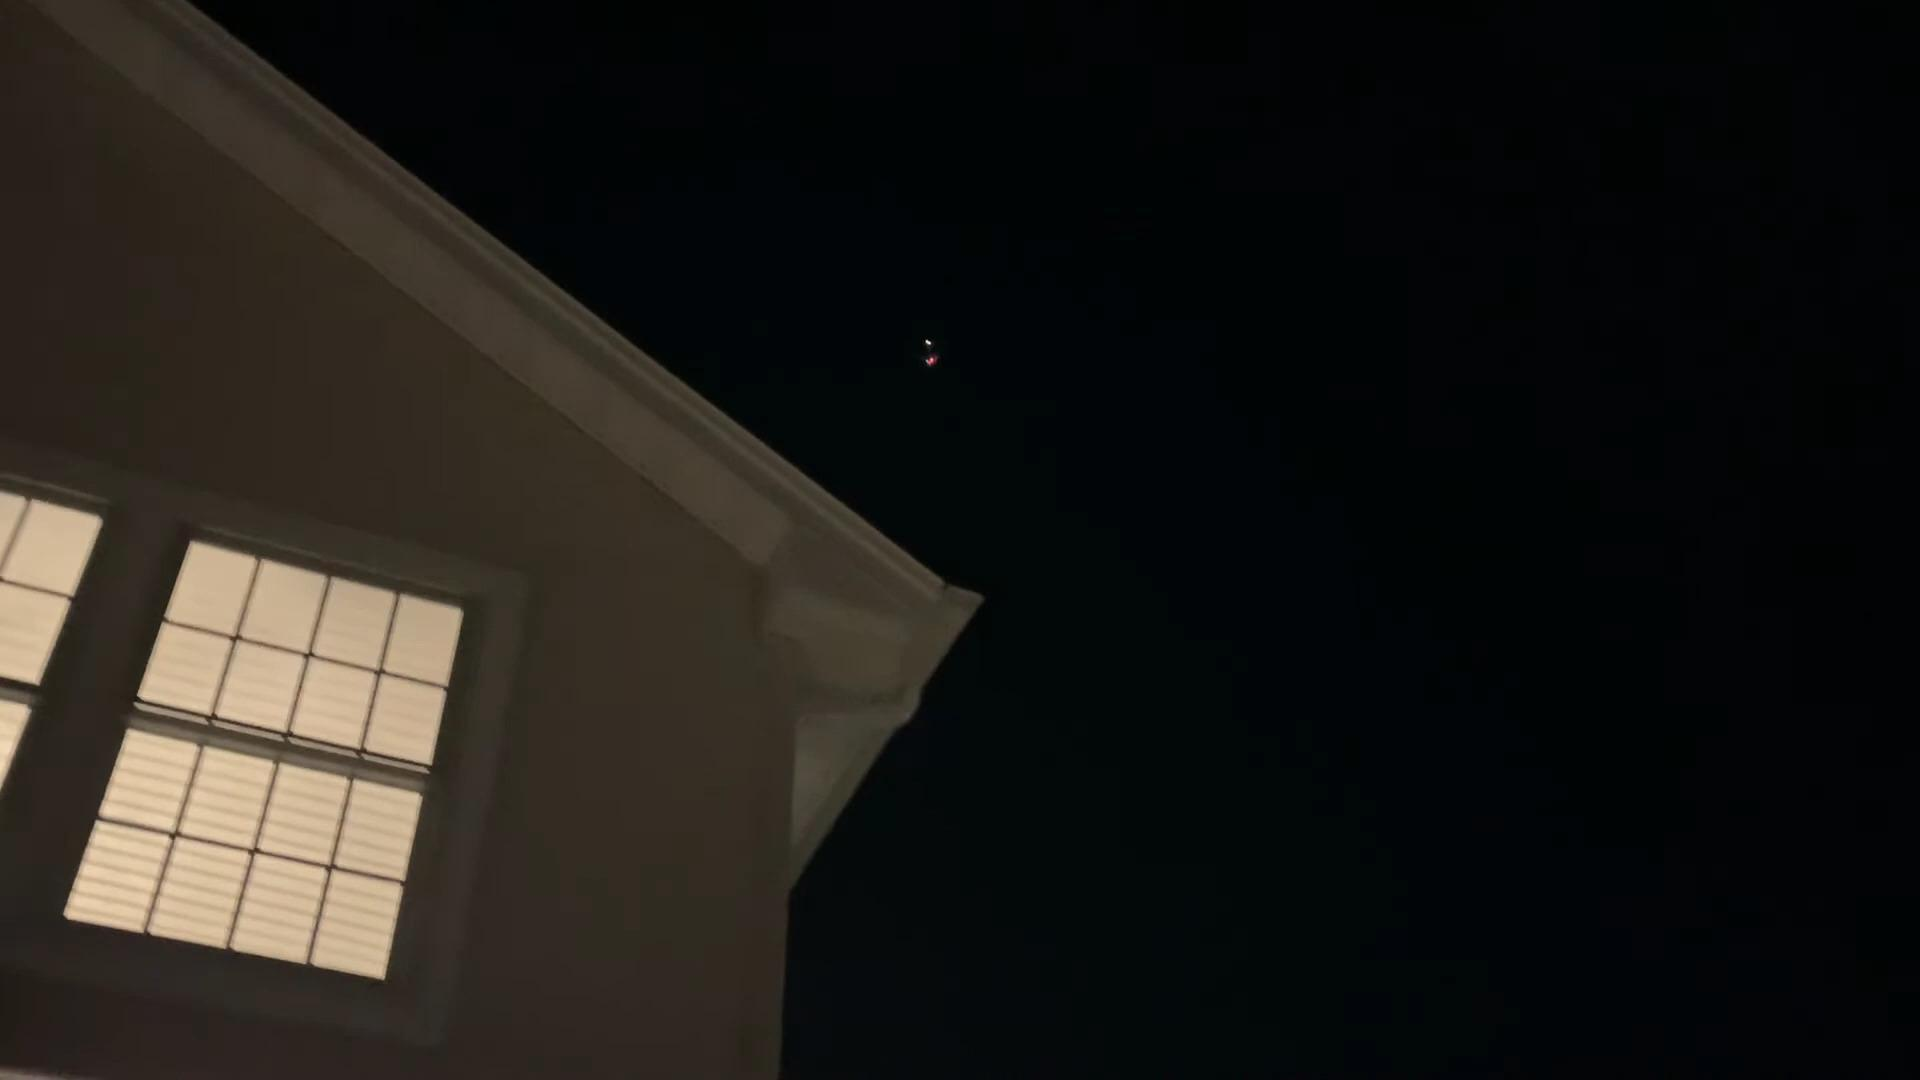Plane: (895, 324, 969, 382)
